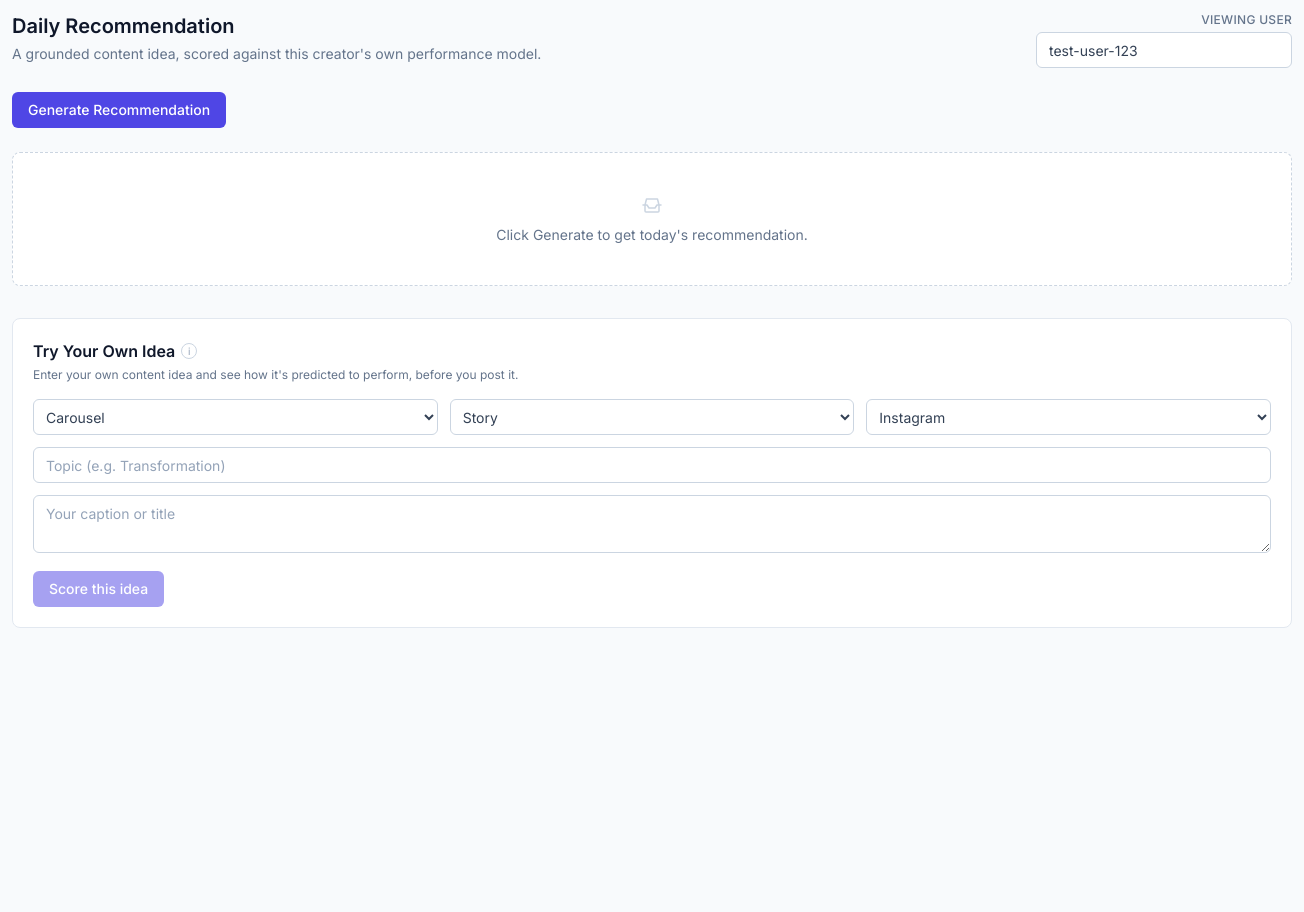
Test: shows an error message when generation fails
What coordinates should you click on to do the following:
click the button "Generate Recommendation"
I would click on:
 (119, 110)
Its box is [12, 92, 226, 128].
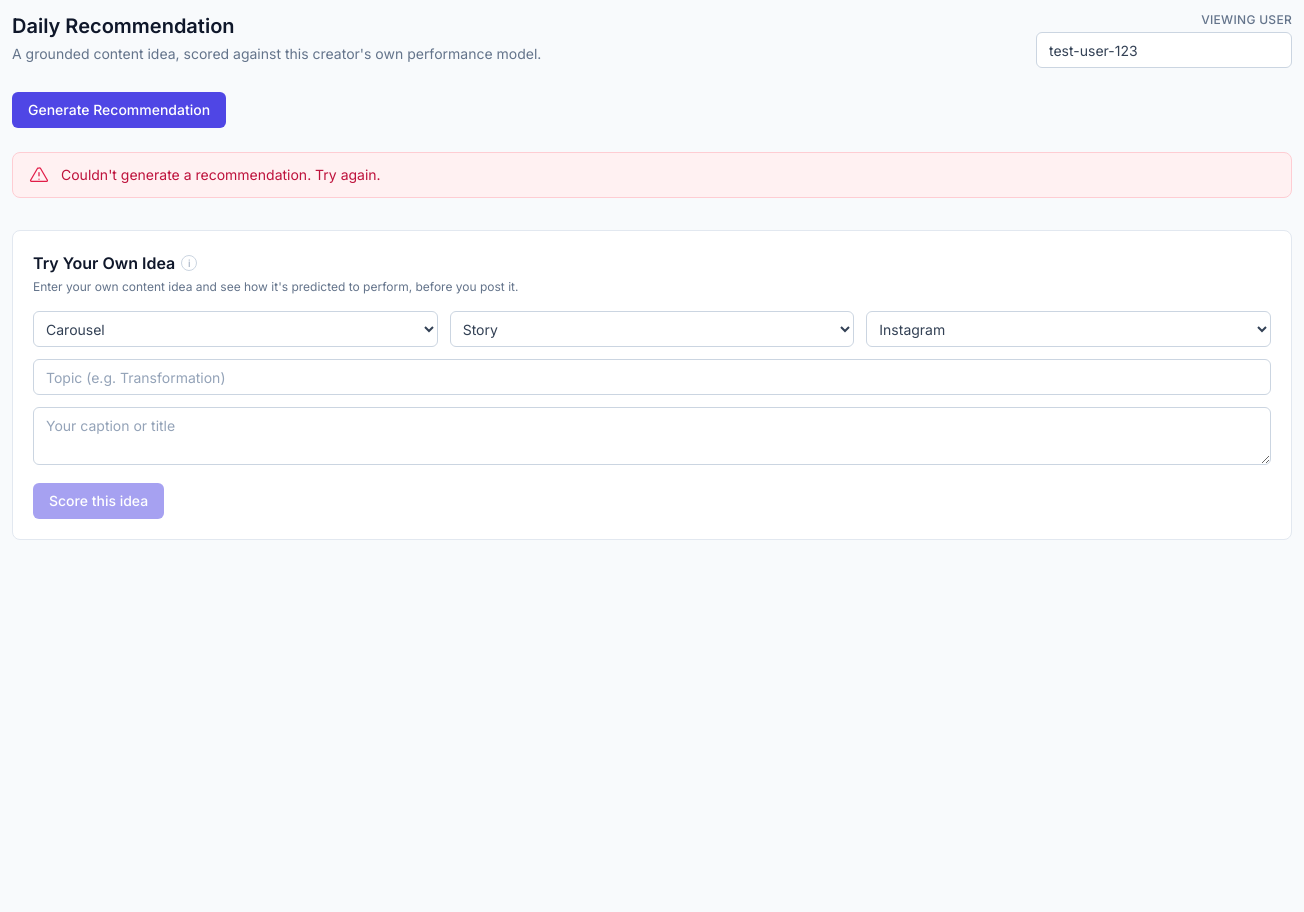
Now the message "Couldn't generate a recommendation. Try again." is shown, box [12, 152, 1292, 198]
Now the text "Couldn't generate a recommendation. Try again." is shown, box [61, 165, 381, 185]
